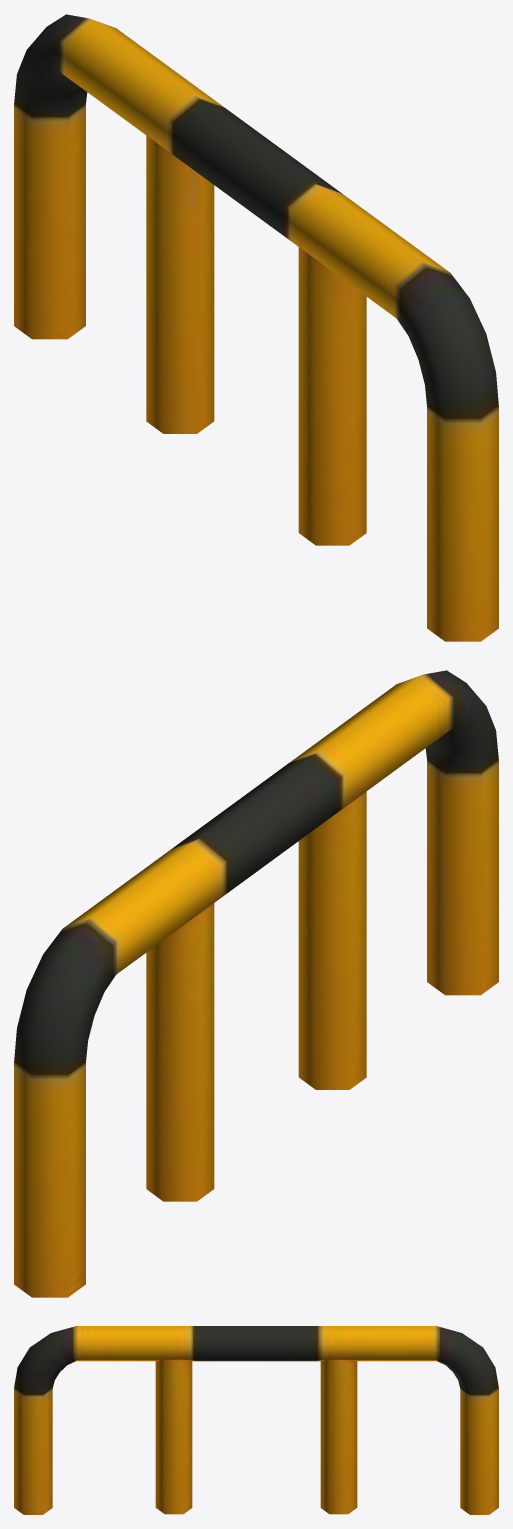
The model's file is 黄色护栏.glb.
3 views of the same model, one above another, from view 1: azimuth 30°, elevation 25°; view 2: azimuth 150°, elevation 25°; view 3: azimuth 270°, elevation 25° (orthographic). The views are drawn at different scales.
Parts seen in each view (by area): view 1: SM_tieweilan; view 2: SM_tieweilan; view 3: SM_tieweilan.
Boxes of the visible parts, box(x1,y1,x2,y2) form: SM_tieweilan: box(14, 14, 498, 641); SM_tieweilan: box(14, 670, 498, 1297); SM_tieweilan: box(14, 1326, 498, 1514).
Bounding box in the file's own units: 0.2599 × 1.55 × 3.75.
1 material, 1 textured.
